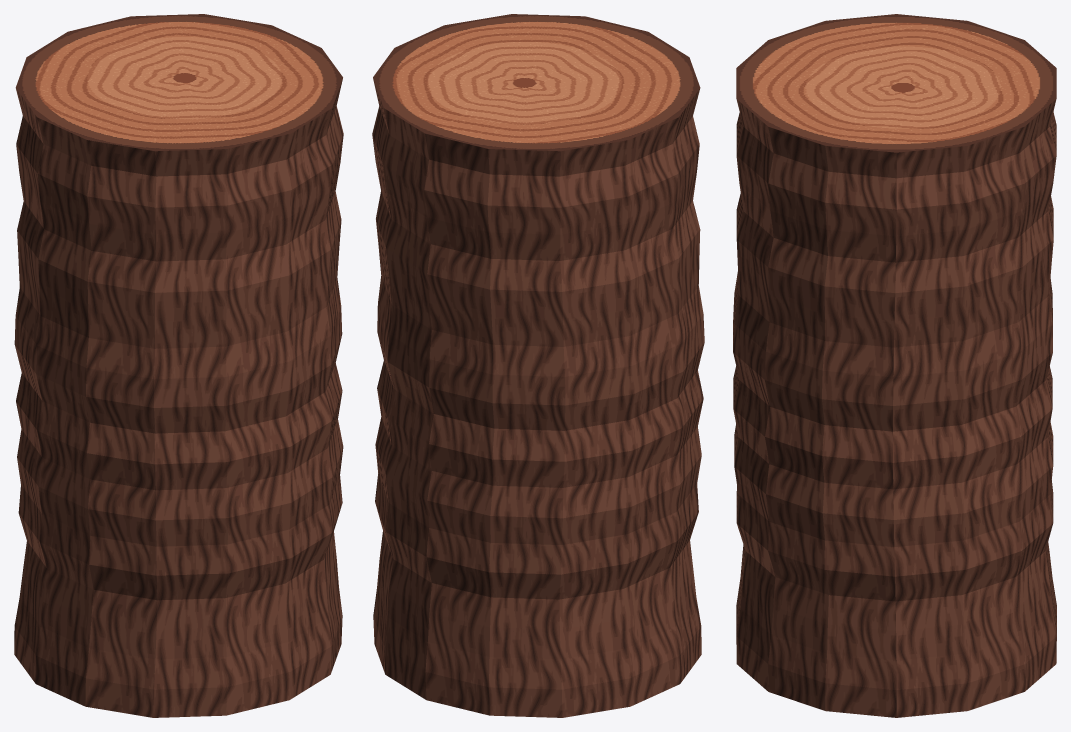
File: environment_redwood1_loghalf_v2.fbx
The picture shows the model from 3 angles, left to right: view 1: azimuth 30°, elevation 25°; view 2: azimuth 150°, elevation 25°; view 3: azimuth 270°, elevation 25°; orthographic projection.
Visible parts, largest first — view 1: environment_redwood1_loghalf_v2; view 2: environment_redwood1_loghalf_v2; view 3: environment_redwood1_loghalf_v2.
Part boxes in pixels (x1,y1,x2,y2): environment_redwood1_loghalf_v2: (14, 14, 343, 717); environment_redwood1_loghalf_v2: (372, 14, 704, 717); environment_redwood1_loghalf_v2: (733, 14, 1056, 717).
Bounding box in the file's own units: 532 × 1000 × 518.
